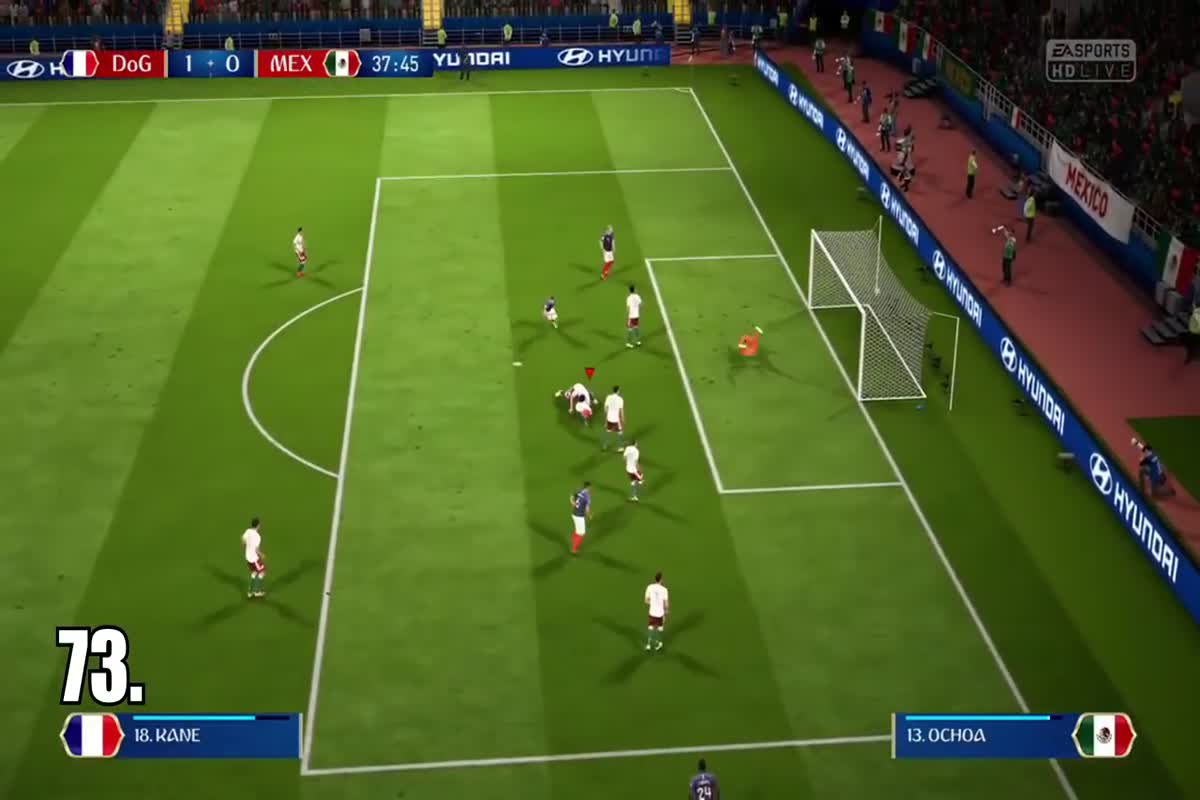ball: (866, 280, 889, 303)
